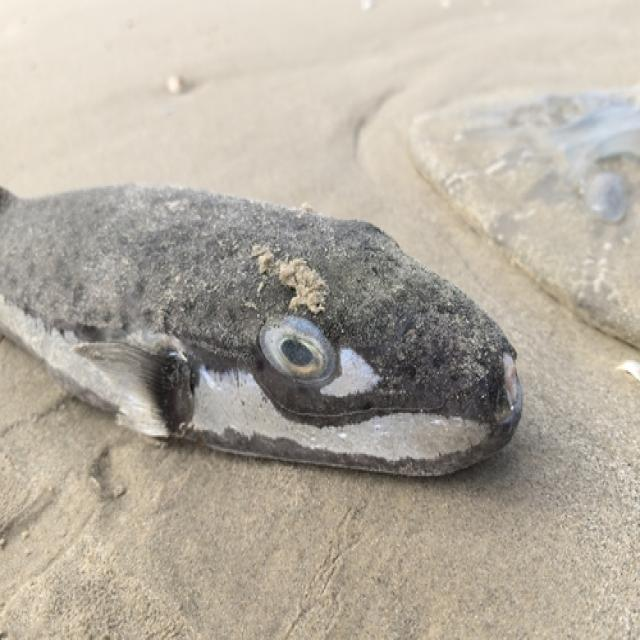Balik: (0, 187, 522, 474)
